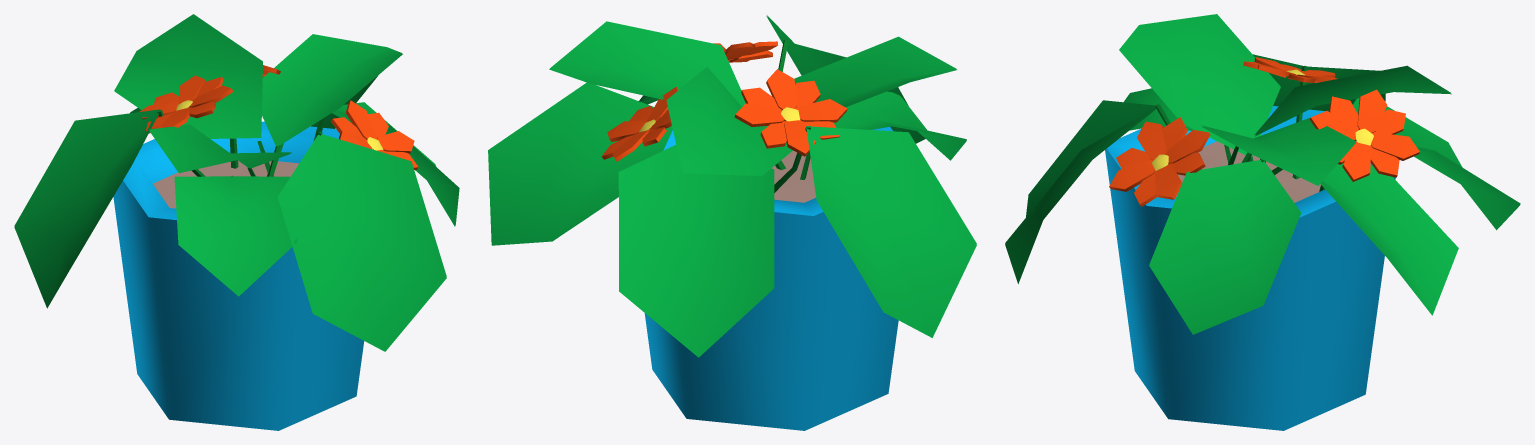
File: SM_flower_001.FBX
The picture shows the model from 3 angles, left to right: view 1: azimuth 30°, elevation 25°; view 2: azimuth 150°, elevation 25°; view 3: azimuth 270°, elevation 25°; orthographic projection. The views are drawn at different scales.
Visible parts, largest first — view 1: SM_flower_001; view 2: SM_flower_001; view 3: SM_flower_001.
Boxes of the visible parts, x1=… form: SM_flower_001: x1=14, y1=14, x2=459, y2=430; SM_flower_001: x1=488, y1=15, x2=976, y2=430; SM_flower_001: x1=1005, y1=14, x2=1520, y2=430.
Size of the model in its own units: 34.79 by 38.74 by 27.18.
